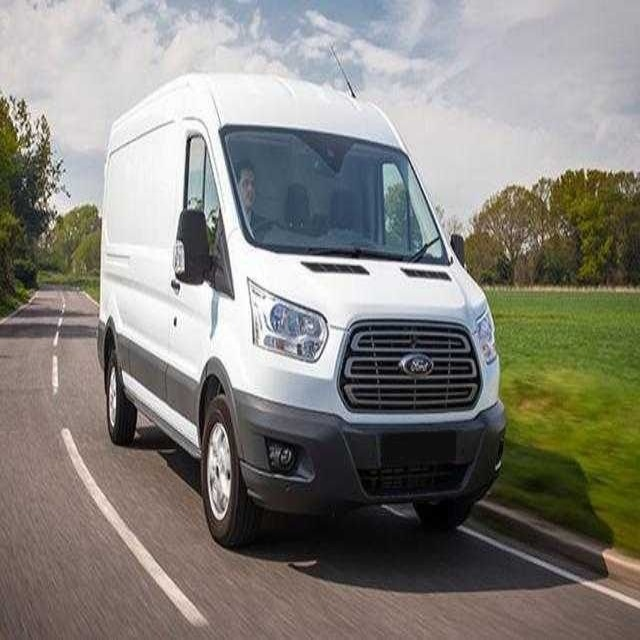Van: (97, 74, 508, 550)
